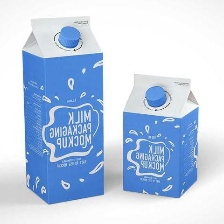carton: (16, 10, 109, 206), (118, 69, 203, 199)
